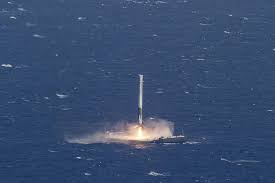ten_lua: (136, 71, 148, 127)
